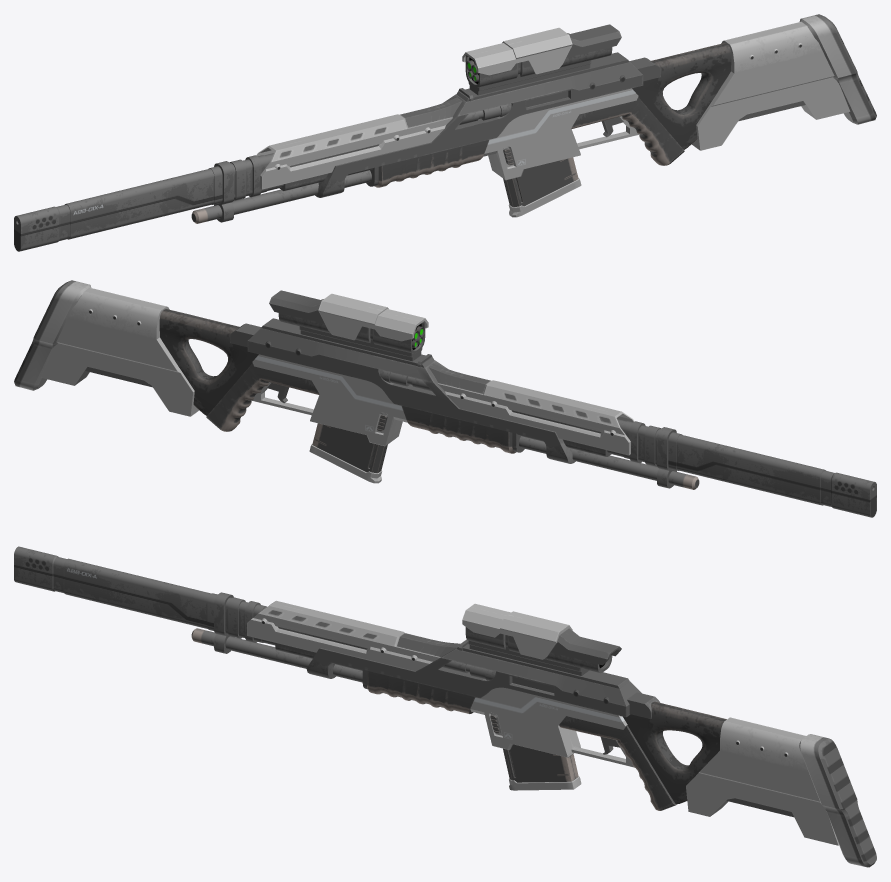
File: Gun_Sniper.gltf
3 renders of one model, top to bottom at view 1: azimuth 30°, elevation 25°; view 2: azimuth 150°, elevation 25°; view 3: azimuth 330°, elevation 25°, orthographic.
Parts seen in each view (by area): view 1: Gun_Sniper; view 2: Gun_Sniper; view 3: Gun_Sniper.
Boxes of the visible parts, bbox=[...] form: Gun_Sniper: bbox=[14, 14, 876, 251]; Gun_Sniper: bbox=[14, 280, 876, 517]; Gun_Sniper: bbox=[14, 546, 876, 867].
Size of the model in its own units: 1.72 by 0.3299 by 0.0591.
1 material, 1 textured.
